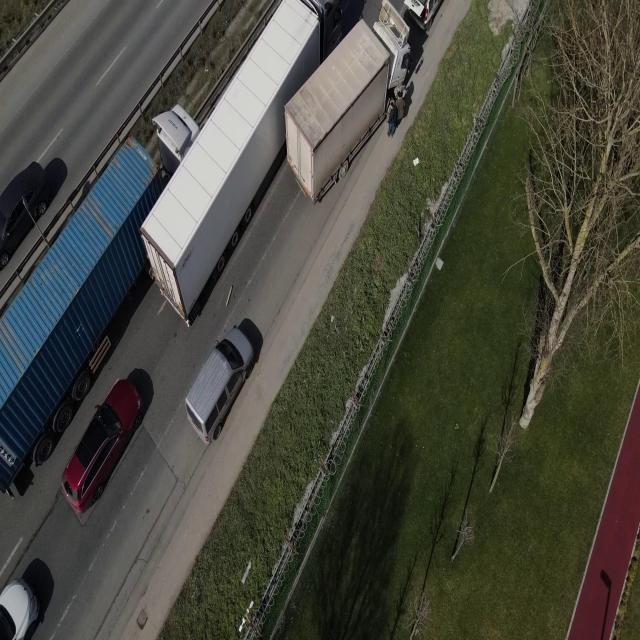p3rson: (387, 100, 398, 138), (396, 91, 405, 128), (399, 80, 406, 100)
